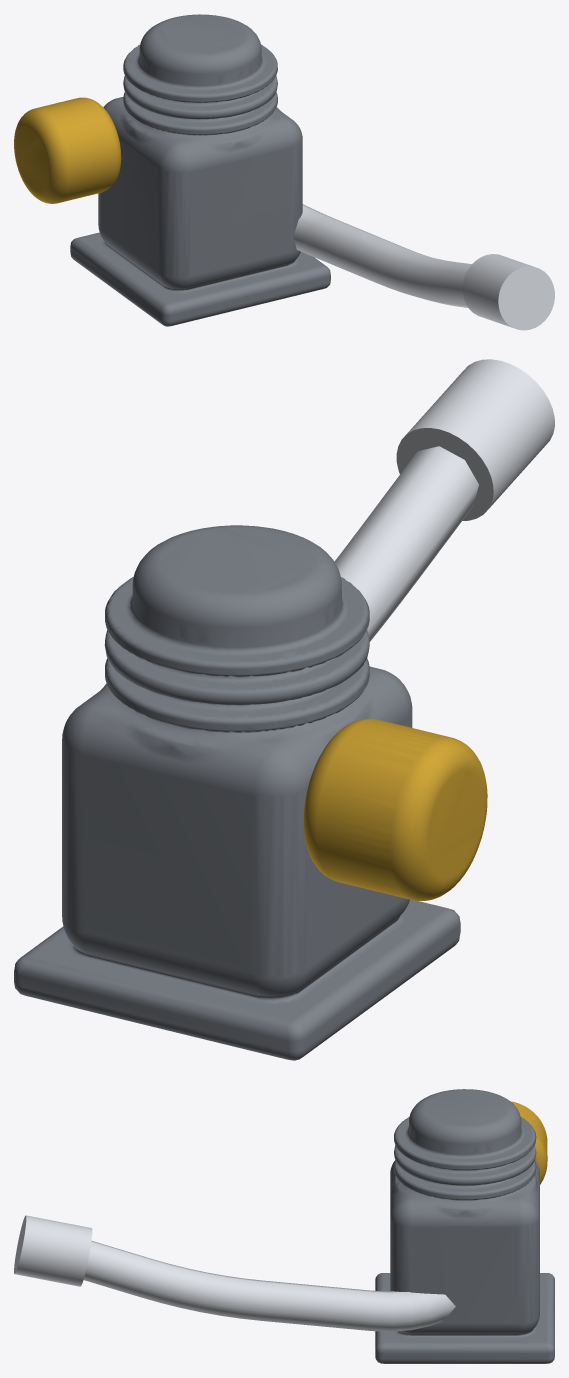
The model's file is single.glb.
The picture shows the model from 3 angles, top to bottom: view 1: azimuth 30°, elevation 25°; view 2: azimuth 150°, elevation 25°; view 3: azimuth 270°, elevation 25°; orthographic projection. The views are drawn at different scales.
Parts seen in each view (by area): view 1: Engine, AirFilter, Exhaust, ExhaustTip; view 2: Engine, AirFilter, Exhaust, ExhaustTip; view 3: Engine, Exhaust, ExhaustTip, AirFilter.
Part boxes in pixels (x1=…): Engine: x1=70, y1=14, x2=330, y2=326; AirFilter: x1=14, y1=97, x2=121, y2=203; Exhaust: x1=293, y1=204, x2=471, y2=307; ExhaustTip: x1=462, y1=254, x2=554, y2=330; Engine: x1=14, y1=525, x2=460, y2=1060; AirFilter: x1=303, y1=718, x2=487, y2=900; Exhaust: x1=334, y1=446, x2=478, y2=641; ExhaustTip: x1=396, y1=359, x2=554, y2=520; Engine: x1=375, y1=1089, x2=554, y2=1363; Exhaust: x1=83, y1=1241, x2=455, y2=1331; ExhaustTip: x1=14, y1=1215, x2=92, y2=1286; AirFilter: x1=511, y1=1101, x2=547, y2=1184.
Size of the model in its own units: 0.37 by 0.325 by 0.7223.
